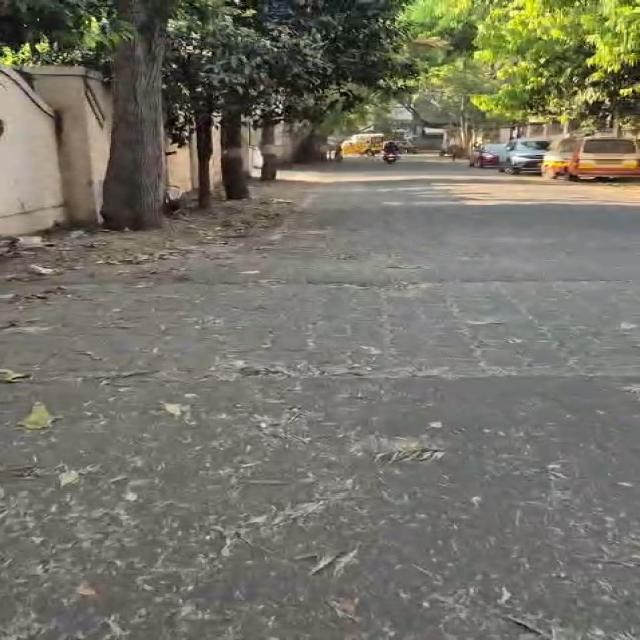bench: (543, 135, 639, 179), (501, 139, 550, 173), (470, 144, 506, 167)
